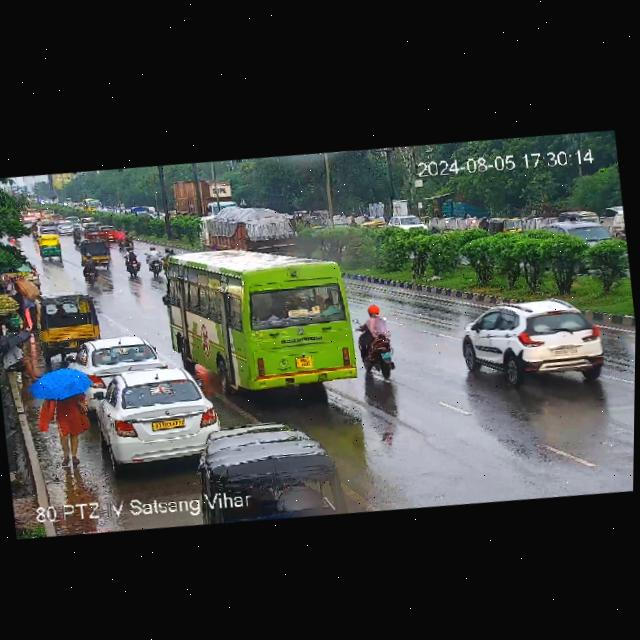bus: (157, 231, 366, 410)
car: (456, 289, 610, 398), (90, 359, 223, 472), (248, 416, 353, 524), (66, 329, 165, 395), (531, 206, 621, 259), (34, 286, 102, 354), (384, 205, 435, 235), (78, 235, 114, 267), (489, 212, 527, 240), (33, 232, 67, 261), (80, 218, 111, 240), (36, 218, 57, 233), (131, 204, 154, 216), (57, 222, 75, 236), (66, 216, 81, 225)
motorcycle: (353, 303, 398, 385), (120, 241, 180, 281), (77, 247, 103, 284), (108, 224, 138, 249), (474, 212, 492, 237), (348, 218, 360, 227)
person: (43, 366, 94, 468), (0, 271, 36, 332), (0, 327, 34, 383)
truck: (197, 198, 299, 265), (84, 197, 104, 212)
